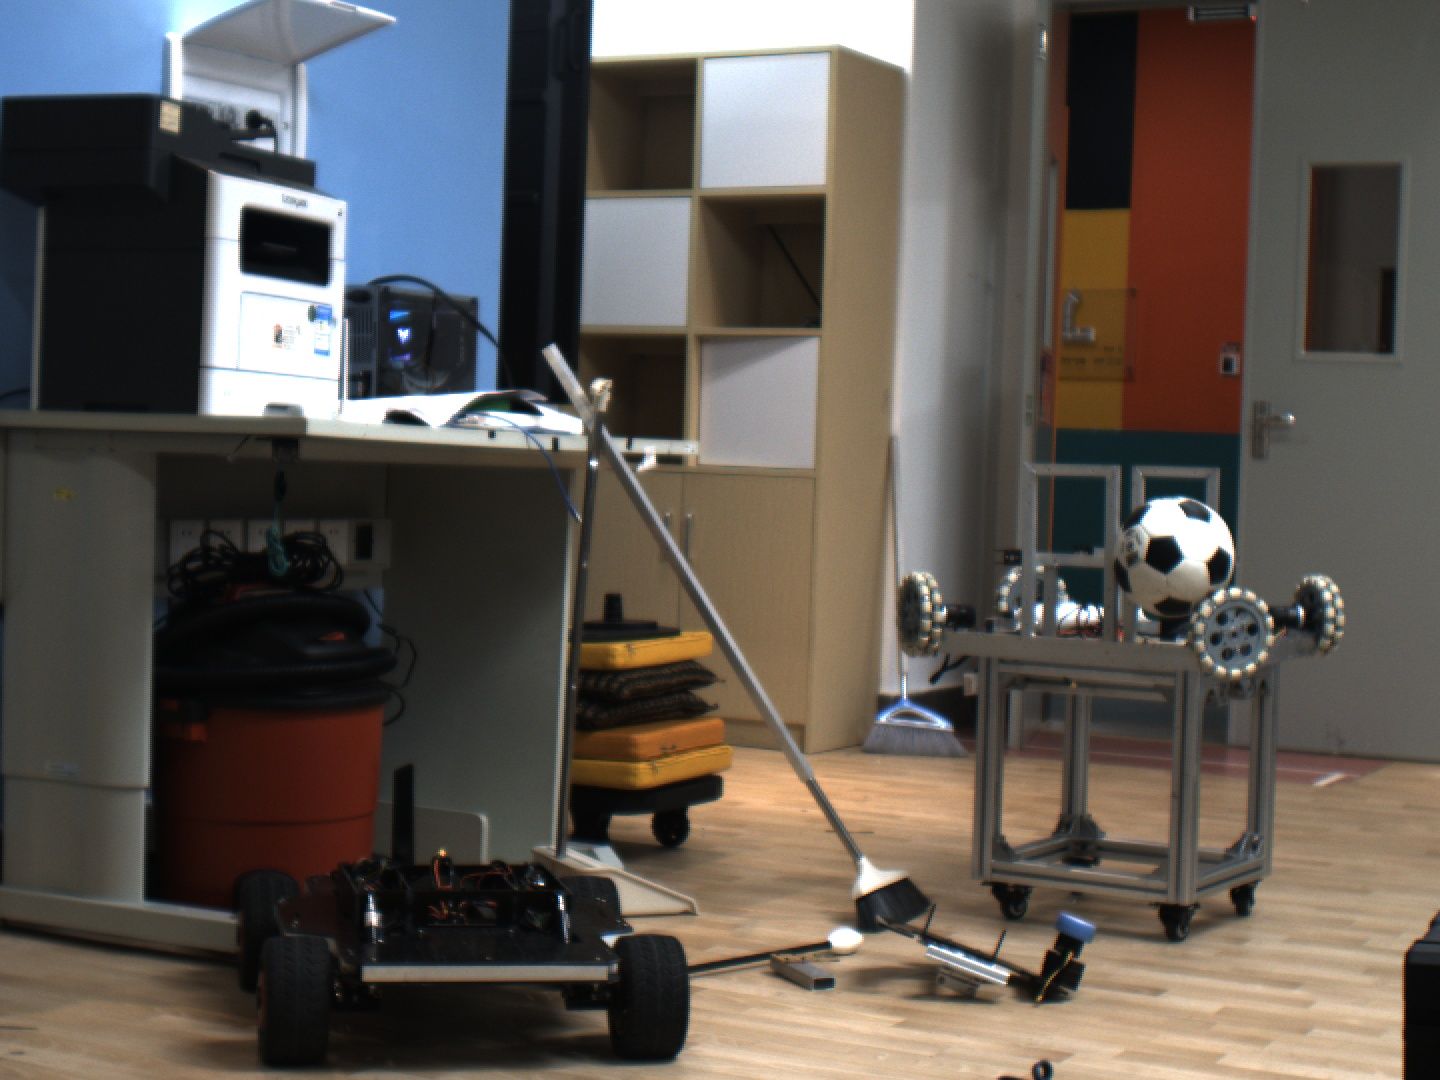ball: (1090, 484, 1263, 635)
